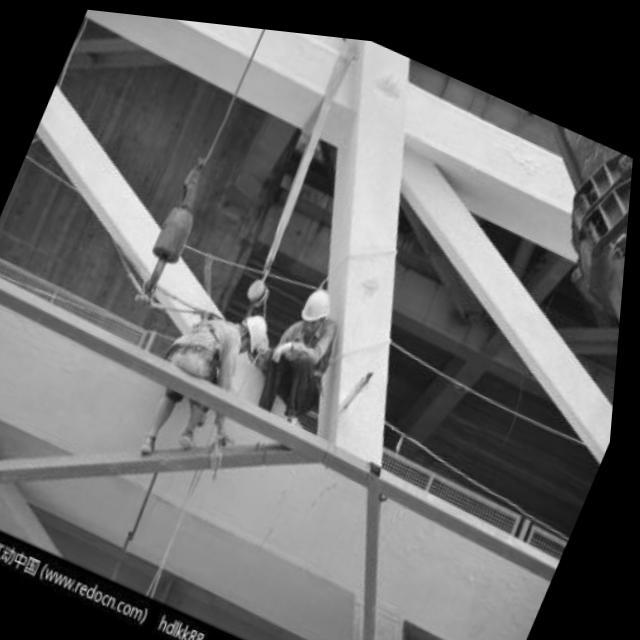belt: (166, 286, 255, 362)
